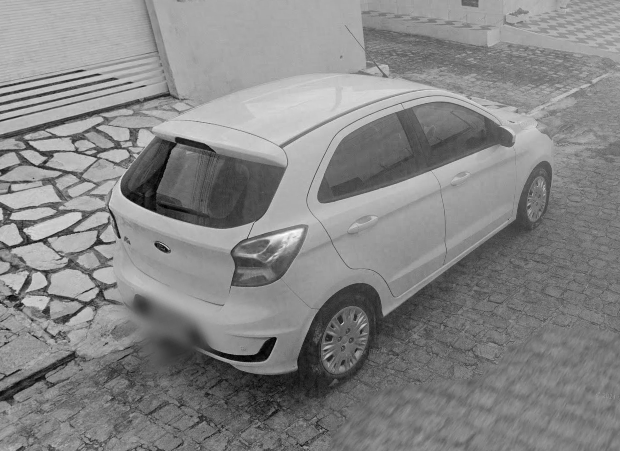car: (105, 24, 559, 389)
